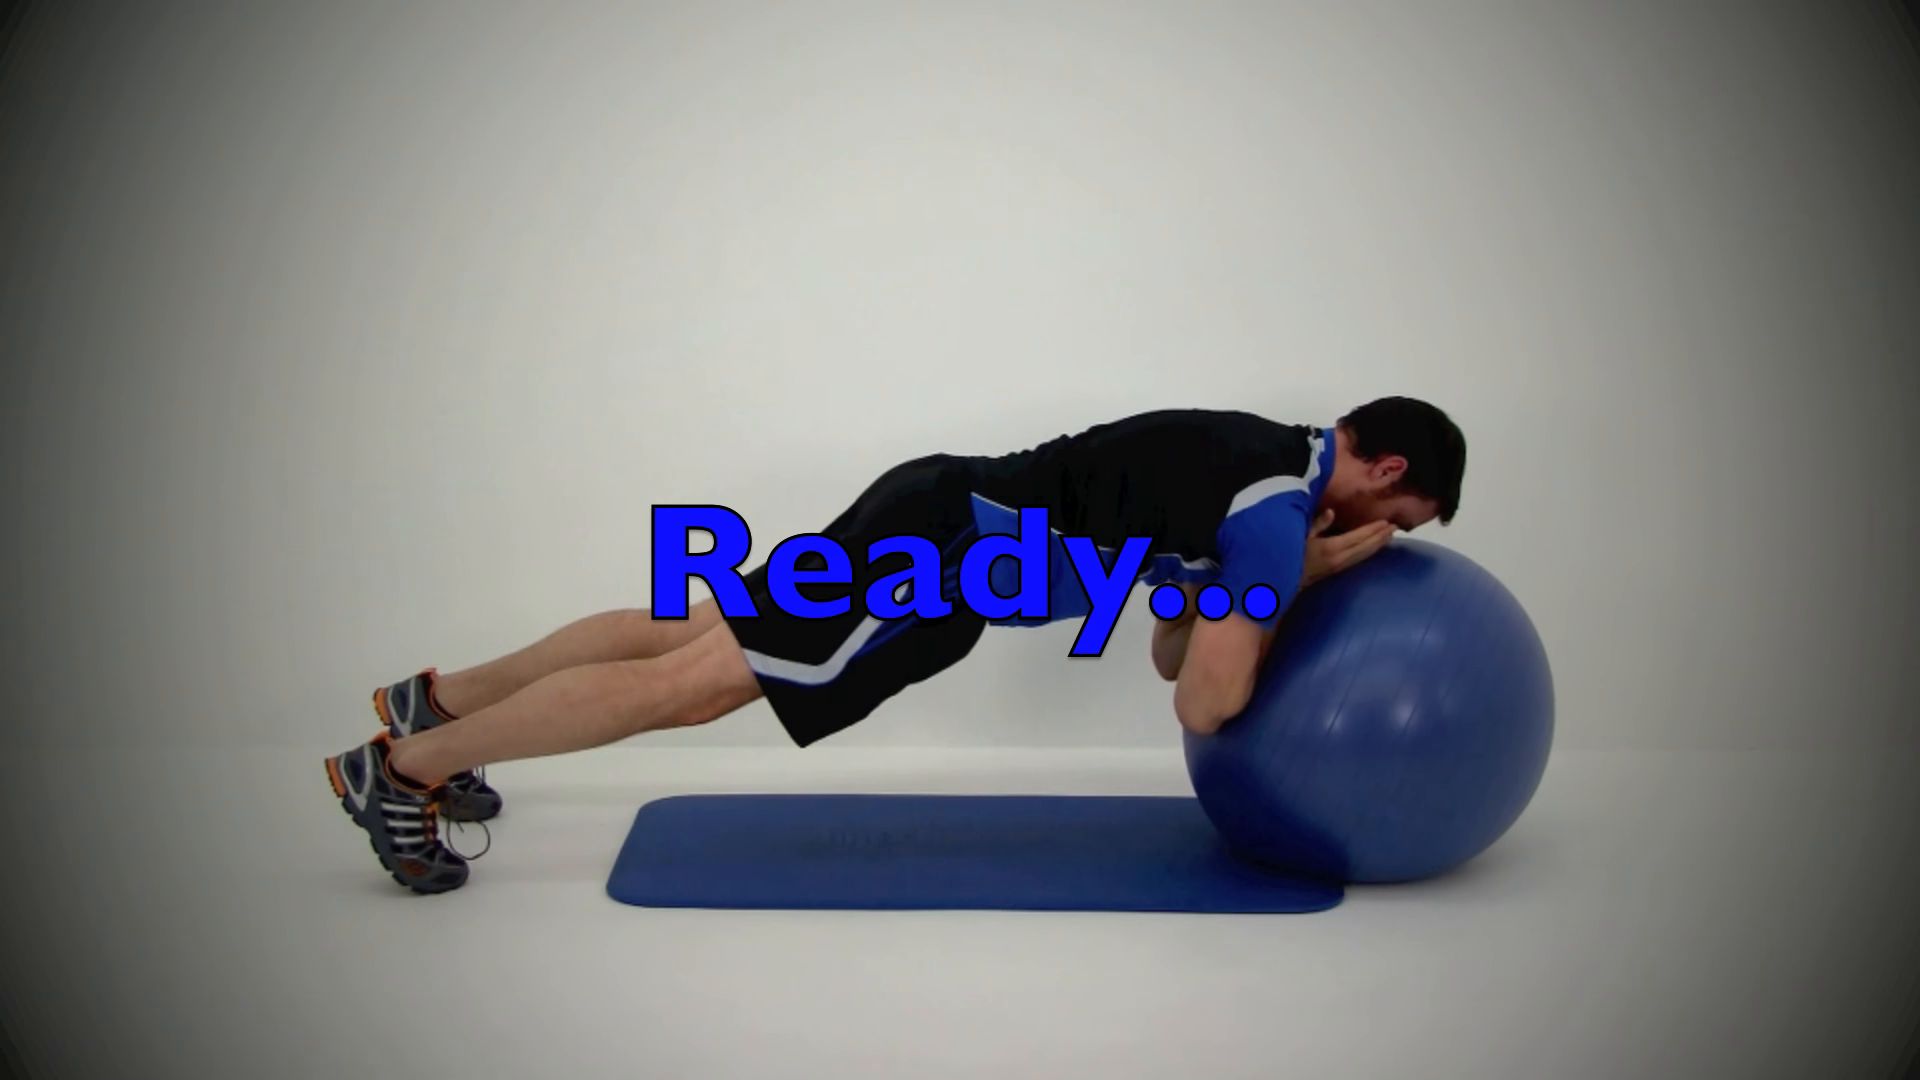yogaball: (1170, 524, 1578, 903)
